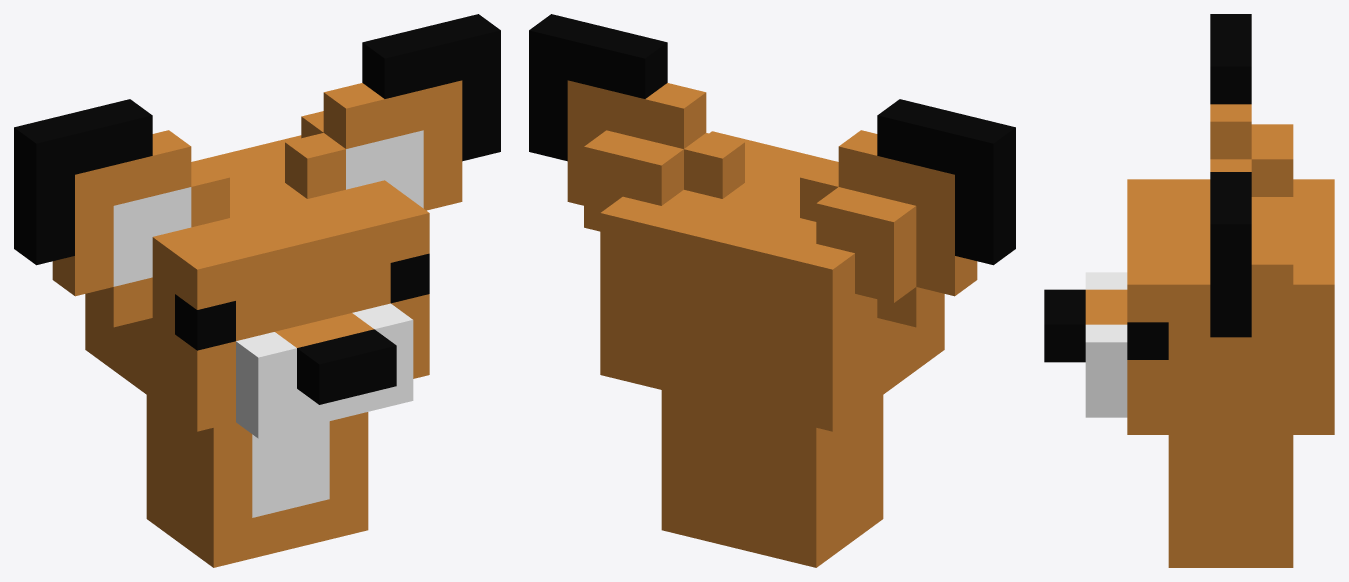
The model's file is Player_Fox.vox-0.obj.
3 views of the same model, side by side, from view 1: azimuth 30°, elevation 25°; view 2: azimuth 150°, elevation 25°; view 3: azimuth 270°, elevation 25° (orthographic). The views are drawn at different scales.
Bounding box in the file's own units: 1.2 × 1.1 × 0.7.
Materials: 1 (1 with a texture image).
